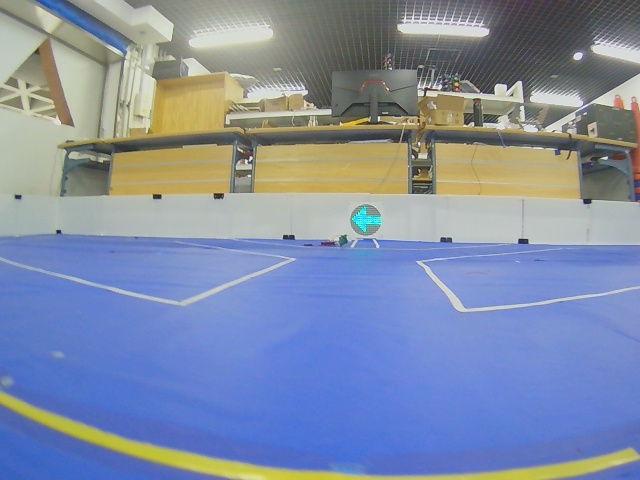left_green: (351, 205, 382, 236)
